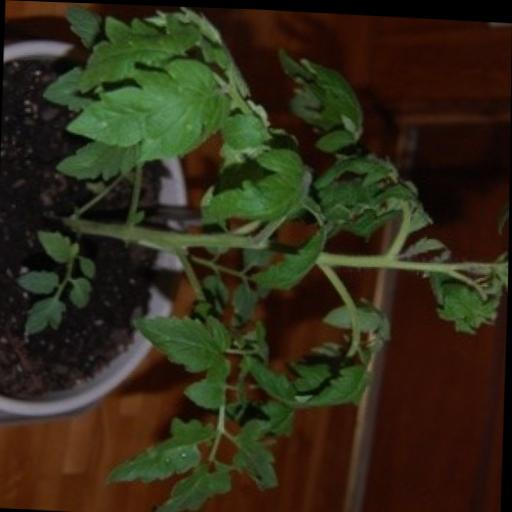Healthy: (63, 51, 232, 165), (130, 311, 234, 373)
